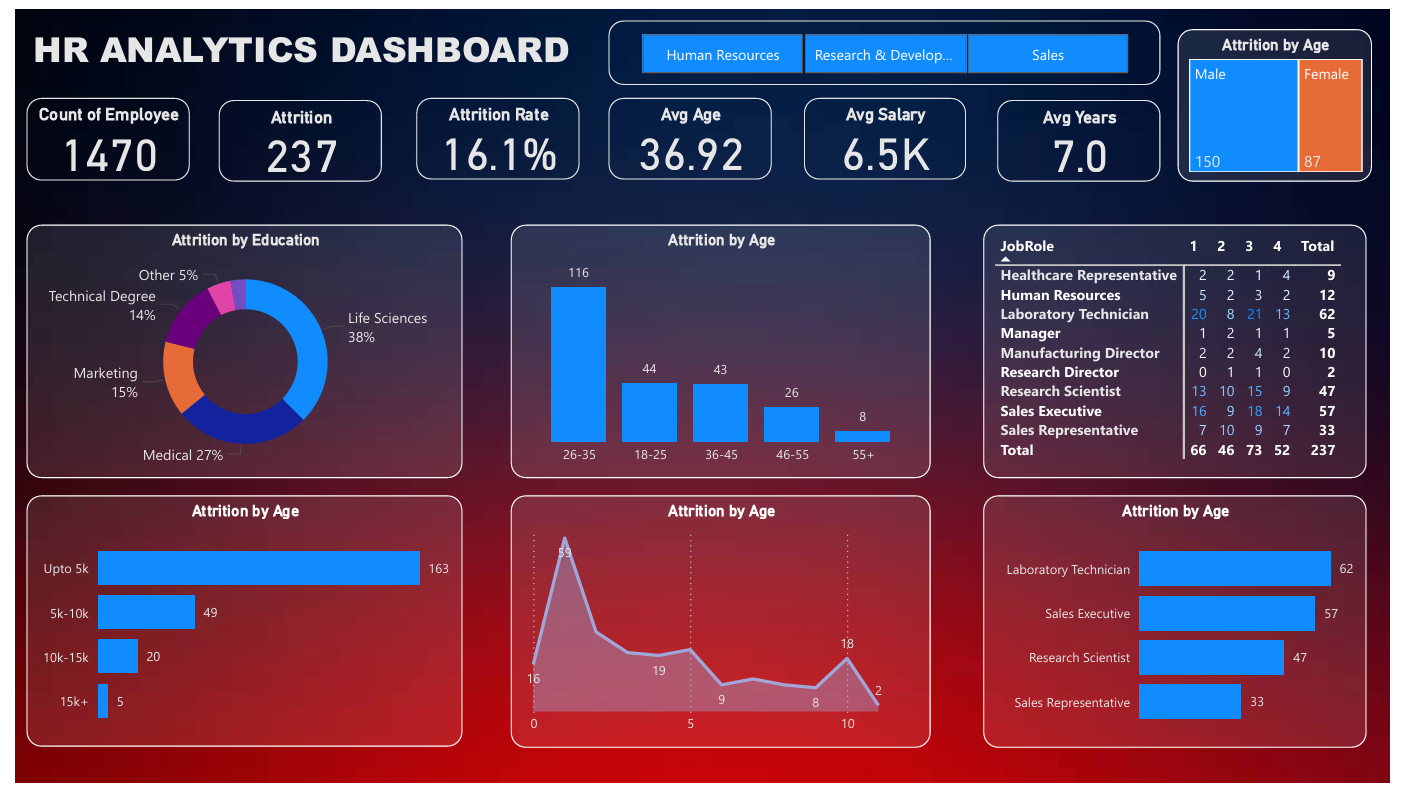

This screenshot's page, from the dashboard's own definition file:
{"tool":"powerbi","page":{"name":"Page 1","canvas":[1280,720],"ordinal":0},"visuals":[{"type":"card","title":"Count of Employee","fields":{"Values":["CountNonNull(hr_analytics.EmpID)"]},"box":[9.6,82.3,152,76.8],"z":0},{"type":"card","title":"Attrition","fields":{"Values":["Sum(hr_analytics.AttritionCount)"]},"box":[189.4,83.7,152,76],"z":1000},{"type":"card","title":"Attrition Rate","fields":{"Values":["hr_analytics.AttritionRate"]},"box":[373.2,82.3,152,76],"z":2000},{"type":"card","title":"Avg Age","fields":{"Values":["Avg(hr_analytics.Age)"]},"box":[551.6,82.3,152,76],"z":3000},{"type":"card","title":"Avg Years","fields":{"Values":["Avg(hr_analytics.YearsAtCompany)"]},"box":[913.9,83.7,152,76],"z":4000},{"type":"card","title":"Avg Salary","fields":{"Values":["Avg(hr_analytics.MonthlyIncome)"]},"box":[733.7,82.2,150.9,76.1],"z":5000},{"type":"donutChart","title":" Attrition by Education","fields":{"Category":["hr_analytics.EducationField"],"Y":["Sum(hr_analytics.AttritionCount)"]},"box":[9.8,200,406.1,235.6],"z":6000},{"type":"columnChart","title":" Attrition by Age","fields":{"Category":["hr_analytics.AgeGroup"],"Y":["Sum(hr_analytics.AttritionCount)"]},"box":[461.4,200,390.2,235.6],"z":7000},{"type":"pivotTable","fields":{"Rows":["hr_analytics.JobRole"],"Columns":["hr_analytics.JobSatisfaction"],"Values":["Sum(hr_analytics.AttritionCount)"]},"box":[900.6,200,357.1,235.6],"z":8000},{"type":"barChart","title":" Attrition by Age","fields":{"Category":["hr_analytics.SalarySlab"],"Y":["Sum(hr_analytics.AttritionCount)"]},"box":[9.8,451.5,406.1,234.4],"z":9000},{"type":"barChart","title":" Attrition by Age","fields":{"Category":["hr_analytics.JobRole"],"Y":["Sum(hr_analytics.AttritionCount)"]},"box":[900.6,451.5,357.1,235.6],"z":10000},{"type":"areaChart","title":" Attrition by Age","fields":{"Category":["hr_analytics.YearsAtCompany"],"Y":["Sum(hr_analytics.AttritionCount)"]},"box":[461.4,451.5,390.2,235.6],"z":11000},{"type":"treemap","title":" Attrition by Age","fields":{"Group":["hr_analytics.Gender"],"Values":["Sum(hr_analytics.AttritionCount)"]},"box":[1082.2,18.4,180.4,141.1],"z":12000},{"type":"slicer","fields":{"Values":["hr_analytics.Department"]},"box":[552.2,9.8,514.1,60.1],"z":13000},{"type":"textbox","box":[11,8.6,514.1,61.4],"z":14000}]}

Visuals, with their boxes in screenshot pixels (x1, y1, x2, y2), scaled from the page's 1280x720 canvas onto the 1403x796 screenshot:
"Count of Employee" card: rect(11, 91, 177, 176)
"Attrition" card: rect(208, 93, 374, 177)
"Attrition Rate" card: rect(409, 91, 576, 175)
"Avg Age" card: rect(605, 91, 771, 175)
"Avg Years" card: rect(1002, 93, 1168, 177)
"Avg Salary" card: rect(804, 91, 970, 175)
" Attrition by Education" donutChart: rect(11, 221, 456, 482)
" Attrition by Age" columnChart: rect(506, 221, 933, 482)
pivotTable - hr_analytics.JobRole x hr_analytics.JobSatisfaction: rect(987, 221, 1379, 482)
" Attrition by Age" barChart: rect(11, 499, 456, 758)
" Attrition by Age" barChart: rect(987, 499, 1379, 760)
" Attrition by Age" areaChart: rect(506, 499, 933, 760)
" Attrition by Age" treemap: rect(1186, 20, 1384, 176)
slicer - hr_analytics.Department: rect(605, 11, 1169, 77)
textbox: rect(12, 10, 576, 77)
